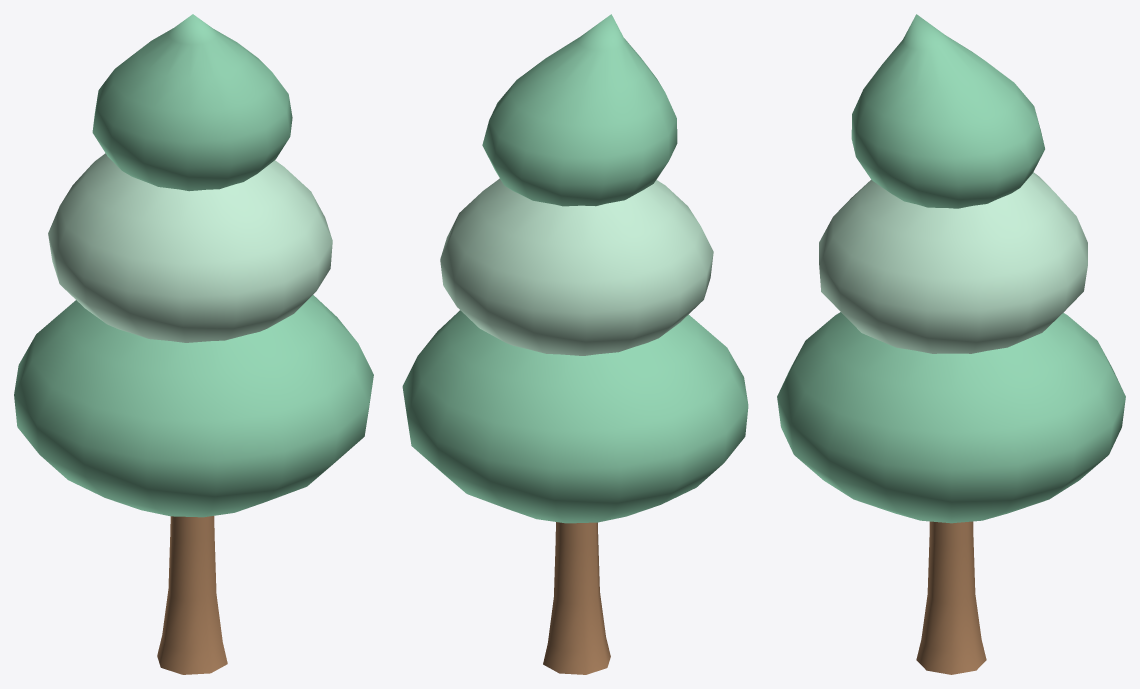
Rendered from tree_tall.fbx.
3 renders of one model, left to right at view 1: azimuth 30°, elevation 25°; view 2: azimuth 150°, elevation 25°; view 3: azimuth 270°, elevation 25°, orthographic. The views are drawn at different scales.
Visible parts, largest first — view 1: tree_tall; view 2: tree_tall; view 3: tree_tall.
Part boxes in pixels (x1,y1,x2,y2): tree_tall: (14, 14, 373, 674); tree_tall: (402, 14, 748, 674); tree_tall: (777, 14, 1125, 674).
Bounding box in the file's own units: 2.78 × 5.6 × 2.78.
